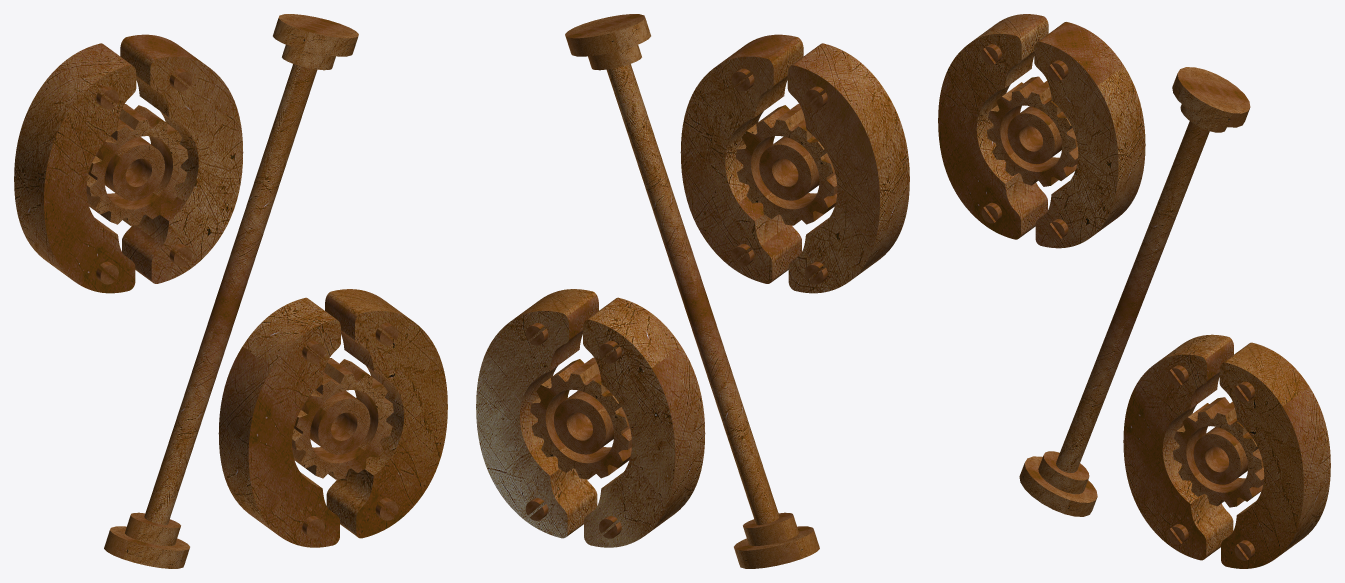
The model's file is Interest.FBX.
The picture shows the model from 3 angles, left to right: view 1: azimuth 30°, elevation 25°; view 2: azimuth 150°, elevation 25°; view 3: azimuth 330°, elevation 25°; orthographic projection. The views are drawn at different scales.
Visible parts, largest first — view 1: Interest005, Tube_617, Cogwheel_391, Cogwheel_390, Tube_619, Tube_620, Tube_618, Tube_621; view 2: Interest005, Tube_617, Cogwheel_391, Cogwheel_390, Tube_619, Tube_620, Tube_618, Tube_621; view 3: Interest005, Tube_617, Cogwheel_390, Cogwheel_391, Tube_619, Tube_620, Tube_618.
Part boxes in pixels (x1,y1,x2,y2): Interest005: (14, 34, 447, 547); Tube_617: (144, 64, 317, 525); Cogwheel_391: (292, 358, 393, 479); Cogwheel_390: (86, 104, 188, 225); Tube_619: (273, 14, 358, 56); Tube_620: (104, 526, 189, 568); Tube_618: (125, 512, 180, 545); Tube_621: (282, 45, 335, 70); Interest005: (476, 34, 909, 547); Tube_617: (606, 64, 779, 525); Cogwheel_391: (530, 357, 631, 479); Cogwheel_390: (735, 103, 837, 225); Tube_619: (565, 14, 650, 56); Tube_620: (734, 526, 819, 568); Tube_618: (743, 512, 798, 545); Tube_621: (588, 45, 641, 70); Interest005: (938, 14, 1330, 568); Tube_617: (1056, 121, 1209, 472); Cogwheel_390: (986, 76, 1078, 186); Cogwheel_391: (1172, 397, 1264, 507); Tube_619: (1172, 67, 1250, 127); Tube_620: (1019, 456, 1097, 516); Tube_618: (1038, 451, 1089, 494).
Size of the model in its own units: 78.13 by 97.9 by 12.89.
1 material, 1 textured.
